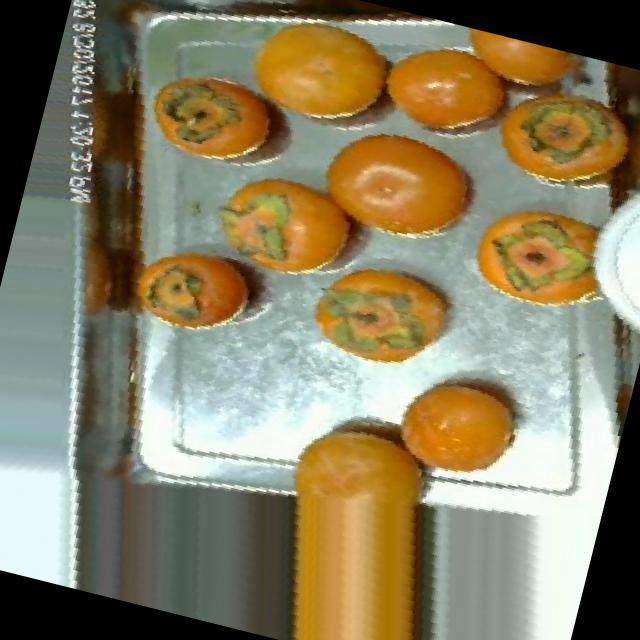Fruit: (288, 104, 508, 276), (120, 42, 324, 200), (446, 178, 636, 338), (217, 0, 418, 150), (288, 235, 474, 394), (467, 55, 640, 223), (376, 349, 544, 493), (118, 223, 286, 365)
